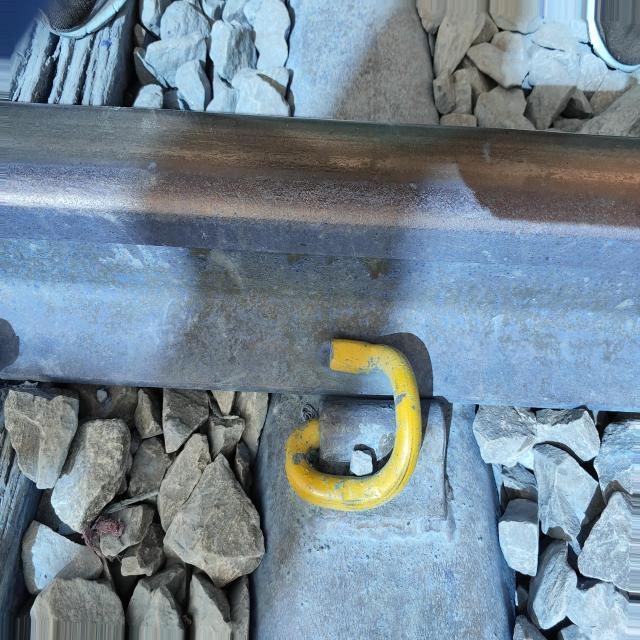Good Fasteners: (275, 329, 456, 558)
